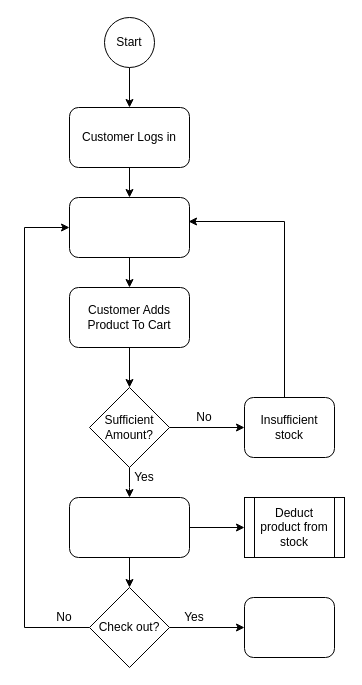
Image size: 362x685. Some labels were removed from this diagram. The shapes that lost their labels are listed below. From the top down, each one's centre as x and y in pixels, then its label:
the point at 129,227: Customer Browses Products
the point at 129,527: Product Added to Cart
the point at 289,627: Perform Checkout
